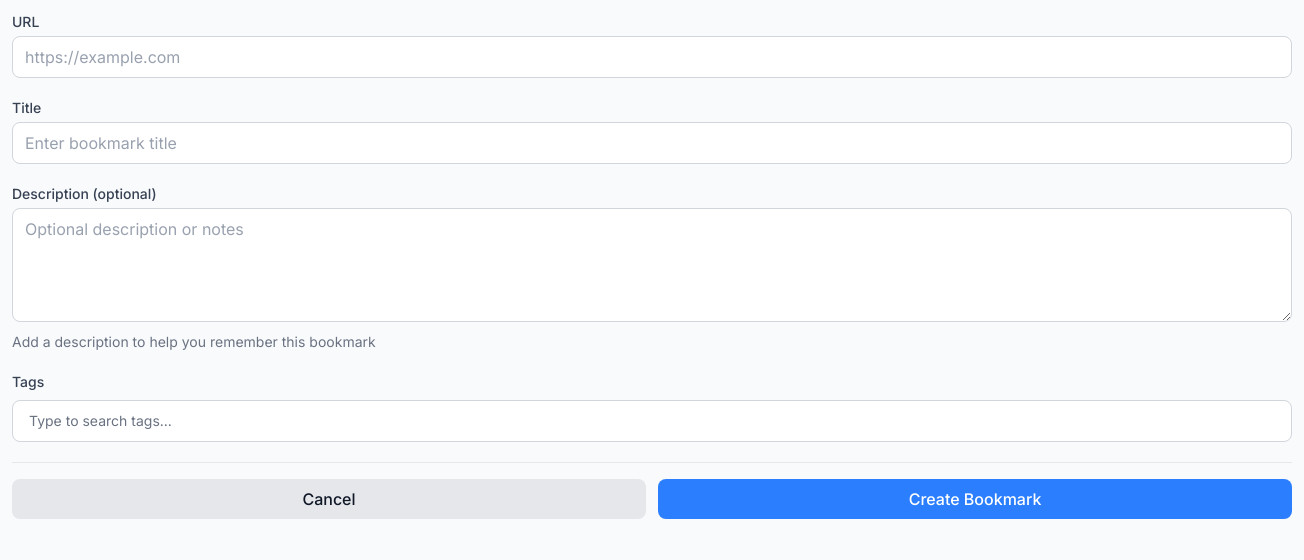
Test: BookmarkForm › should validate URL format
This screenshot has width=1304, height=560.
In the field labelled "URL": coordinates (652, 57) [12,36,1292,78], type "invalid-url"
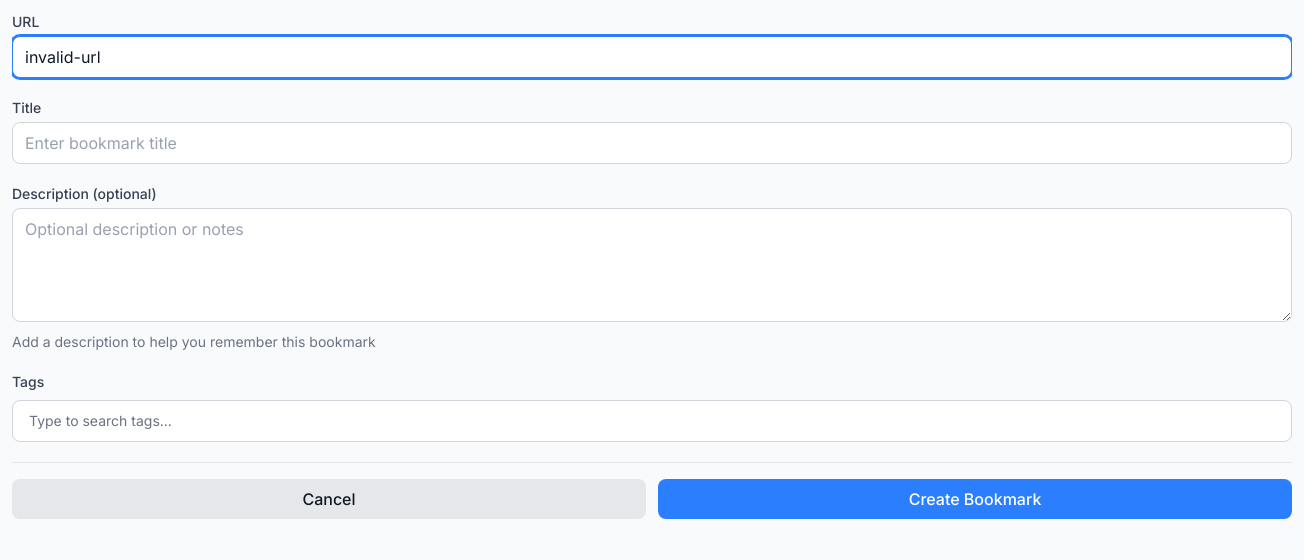
In the field labelled "Title": coordinates (652, 143) [12,122,1292,164], type "Valid Title"
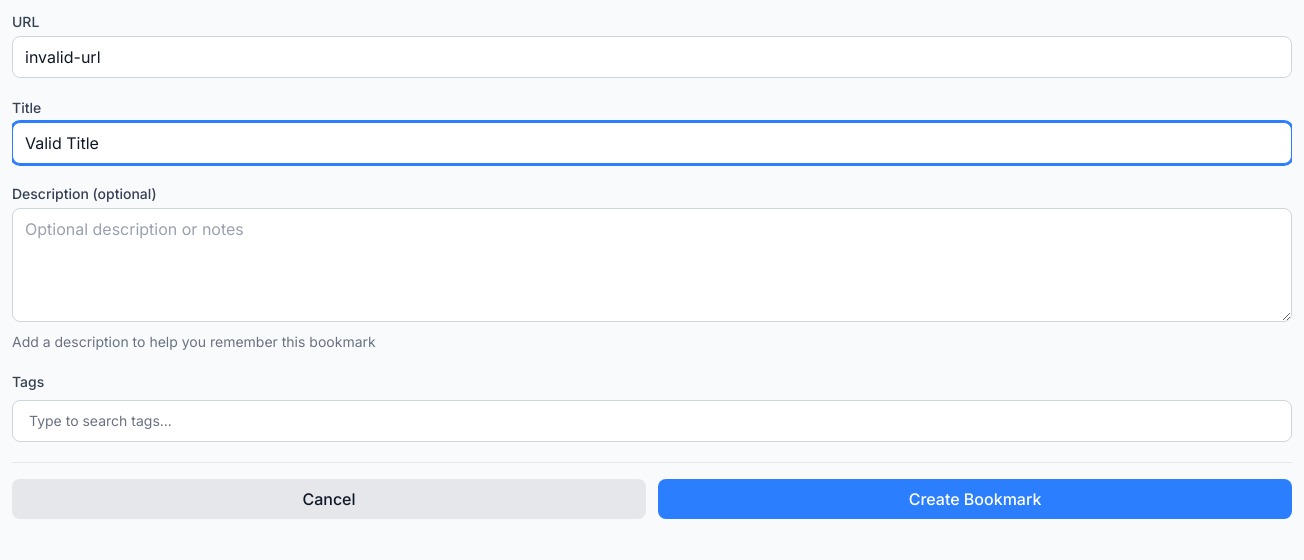
Click the button "Create Bookmark": coordinates (975, 499) [658,479,1292,519]
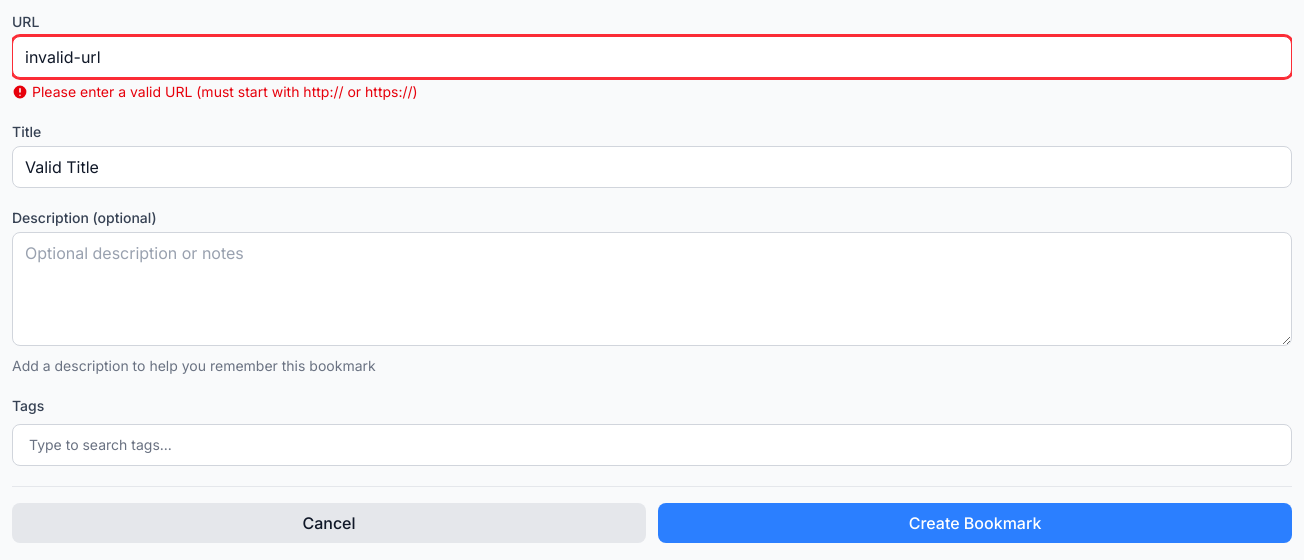
expect the text "Please enter a valid URL" is shown: met, box [32,83,418,100]
